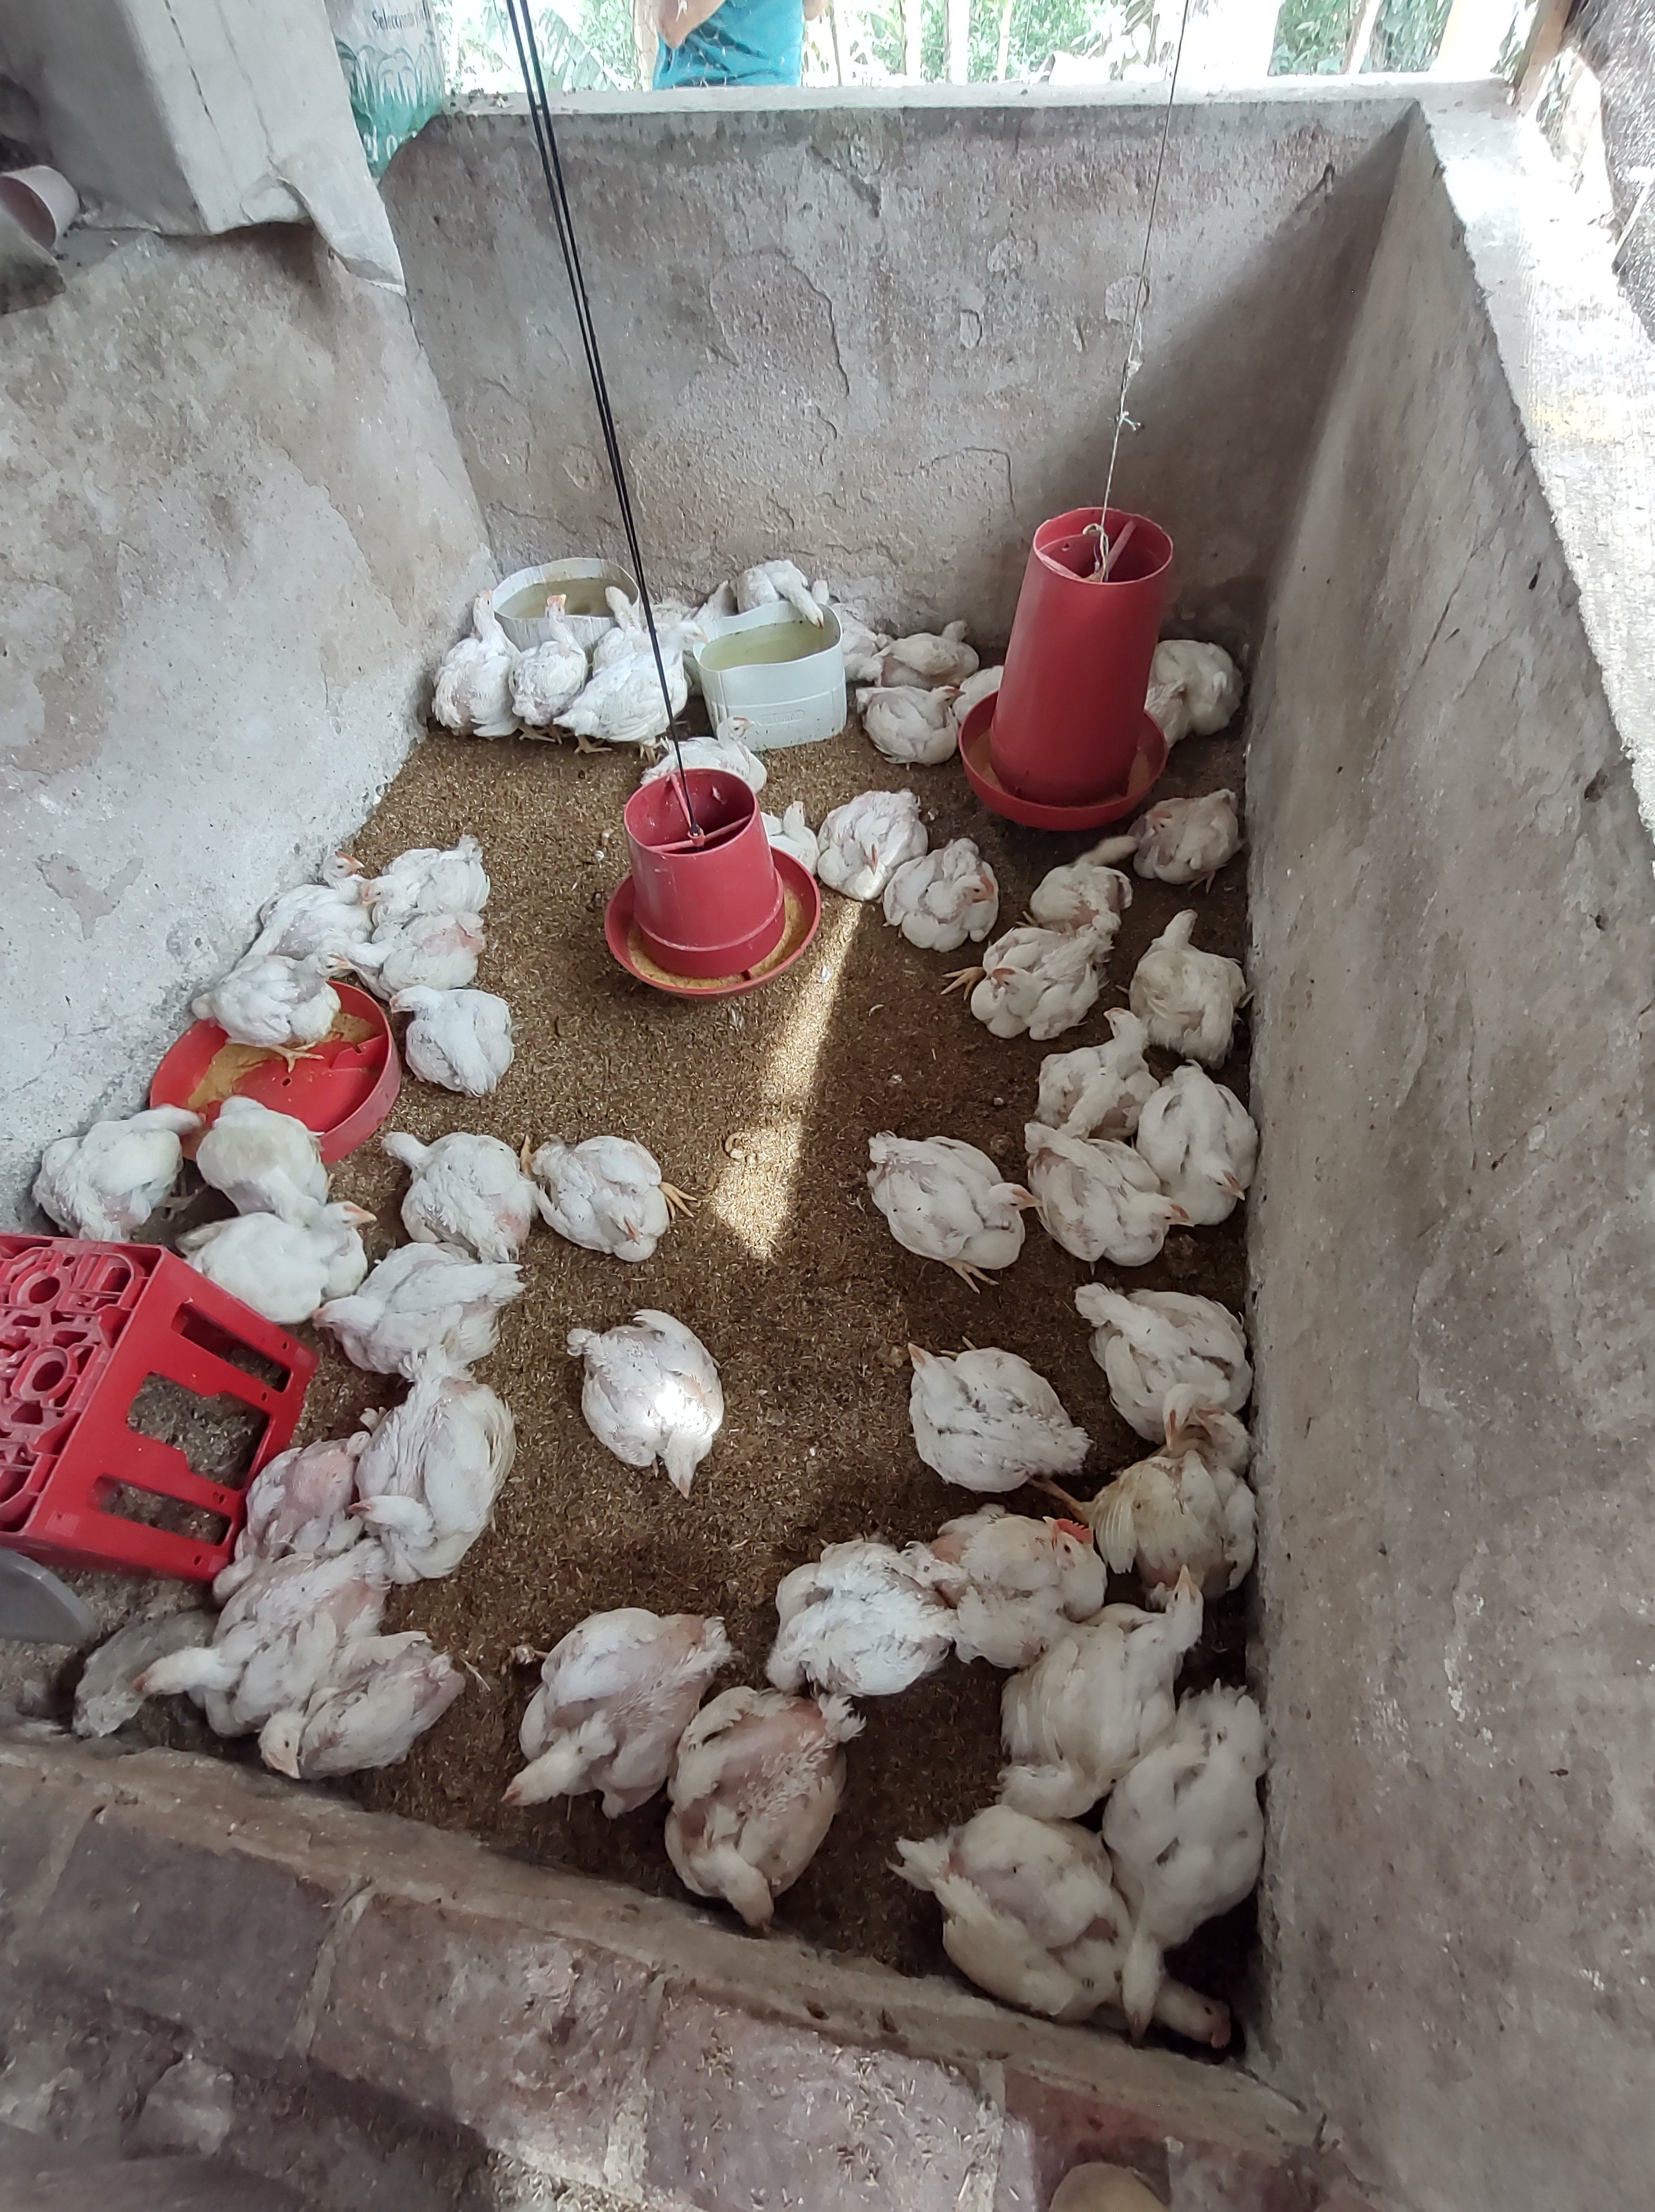Pollos: (1104, 1723, 1269, 2049), (676, 1680, 859, 1932), (501, 1617, 721, 1812), (342, 1370, 509, 1582), (761, 1539, 963, 1690), (899, 1339, 1090, 1487), (577, 1309, 716, 1496), (935, 1506, 1100, 1656), (1074, 1276, 1194, 1450), (878, 1136, 1038, 1264), (309, 1273, 511, 1372), (376, 1125, 528, 1252), (214, 1438, 329, 1596), (144, 1603, 320, 1706), (49, 1109, 195, 1231), (1057, 1136, 1193, 1261), (542, 1136, 678, 1259), (223, 1198, 376, 1306), (203, 1090, 332, 1217), (1140, 908, 1252, 1054), (958, 932, 1107, 1038), (577, 623, 706, 744), (209, 948, 358, 1049), (1043, 1007, 1161, 1132), (257, 1692, 421, 1781), (384, 988, 518, 1096), (822, 783, 930, 899), (1175, 1064, 1260, 1210), (1123, 1556, 1203, 1697), (438, 584, 513, 730), (904, 833, 1000, 946), (1034, 833, 1137, 934), (515, 584, 579, 739), (1153, 635, 1243, 743), (266, 850, 370, 943), (1144, 790, 1248, 882), (1189, 1409, 1252, 1560), (855, 680, 963, 760), (728, 556, 831, 633), (367, 856, 487, 920), (869, 617, 980, 683), (685, 711, 760, 762), (774, 802, 822, 856)
